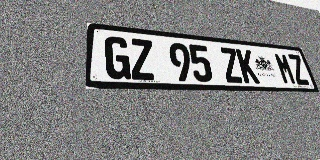5: (188, 44, 214, 82)
9: (168, 42, 194, 81)
G: (105, 36, 131, 80)
K: (235, 49, 260, 83)
M: (273, 52, 297, 85)
Z: (129, 38, 156, 80), (219, 47, 244, 83), (287, 54, 310, 85)
